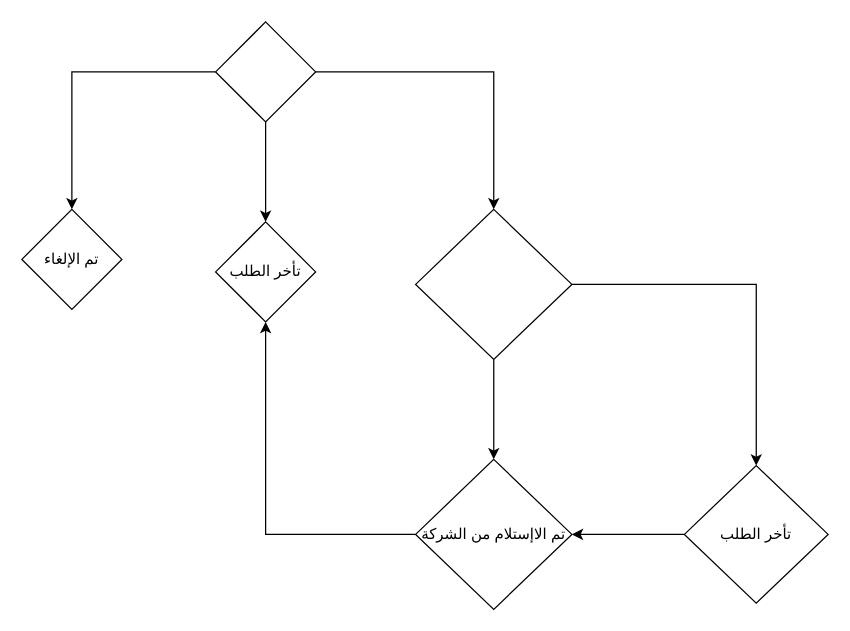
Image size: 850x631. Some labels were removed from this diagram. The centre of each missing label's shape, as x and y in pixels:
"تم الاإستلام من المندوب" goes at pixel 493 283.
"تم انشاء الطلب" goes at pixel 265 71.
